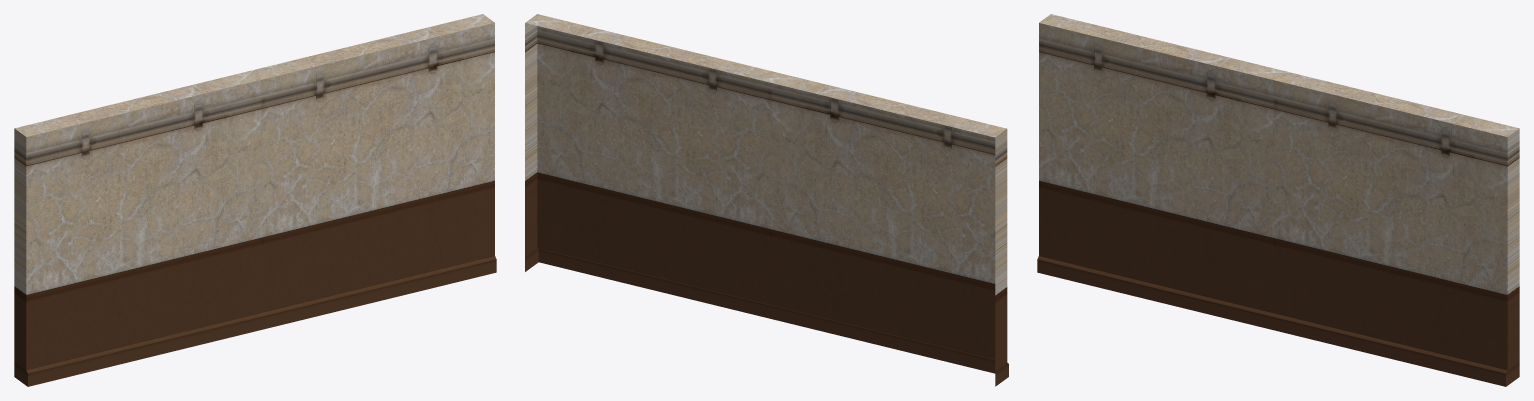
The model's file is Wall_Servplain_long.fbx.
3 renders of one model, left to right at view 1: azimuth 30°, elevation 25°; view 2: azimuth 150°, elevation 25°; view 3: azimuth 330°, elevation 25°, orthographic.
Parts seen in each view (by area): view 1: Wall_Servants_Long; view 2: Wall_Servants_Long; view 3: Wall_Servants_Long.
Boxes of the visible parts, <box> form: Wall_Servants_Long: <box>14,14,496,386</box>; Wall_Servants_Long: <box>525,14,1008,386</box>; Wall_Servants_Long: <box>1037,14,1519,386</box>.
Bounding box in the file's own units: 732 × 371 × 36.72.
